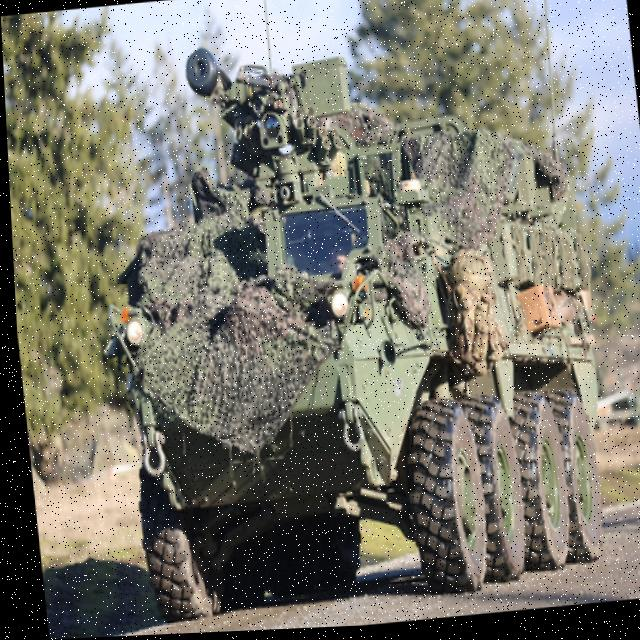MIL_APC: (77, 72, 638, 637)
